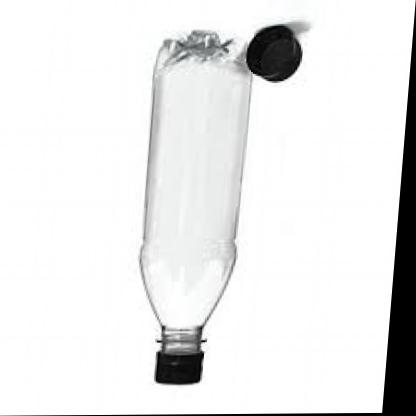Plastic: (123, 28, 260, 390)
